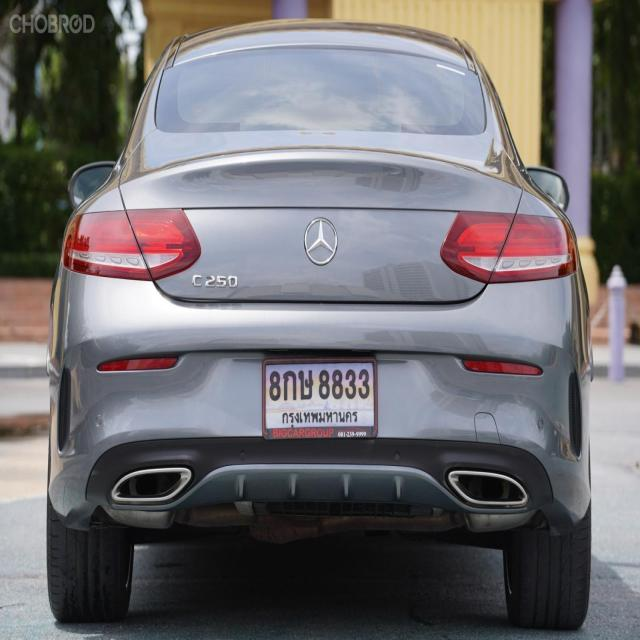license_plate: (261, 353, 382, 444)
